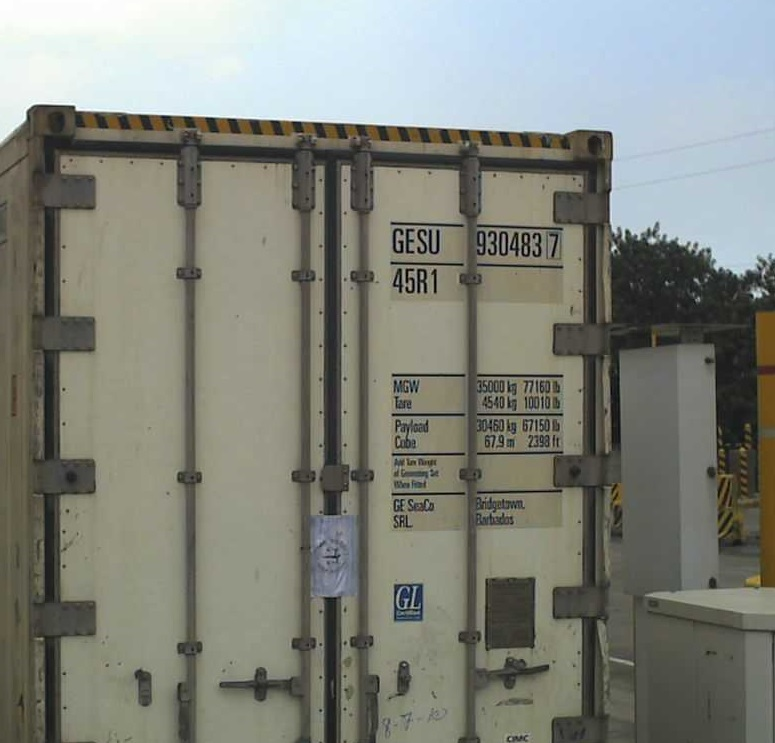container_door: (29, 101, 605, 742)
